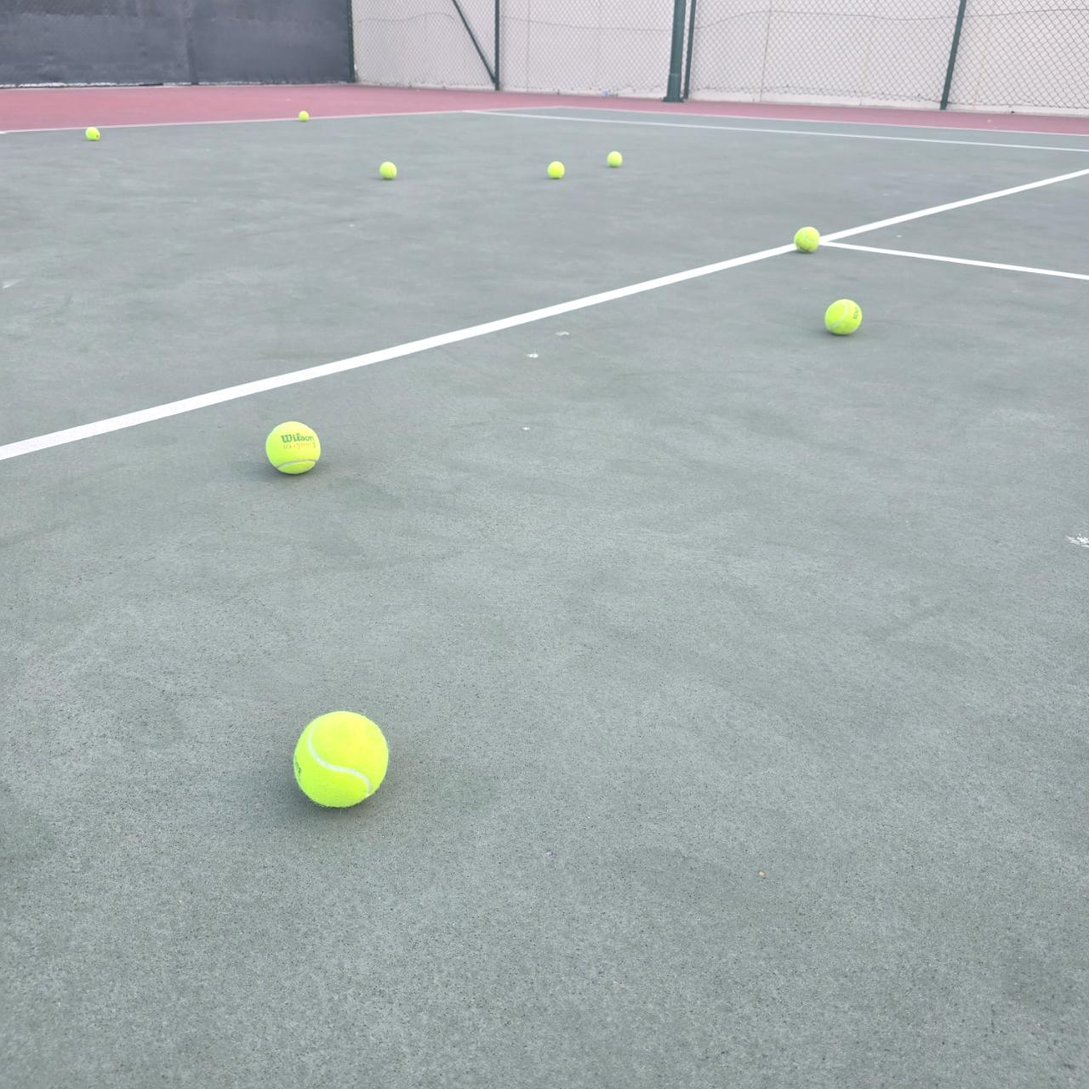tennis-ball: (291, 707, 390, 809), (263, 418, 322, 475), (823, 296, 863, 335), (792, 224, 819, 252), (545, 159, 565, 179), (378, 160, 397, 180), (605, 149, 622, 167), (85, 127, 100, 141), (299, 111, 309, 122)
